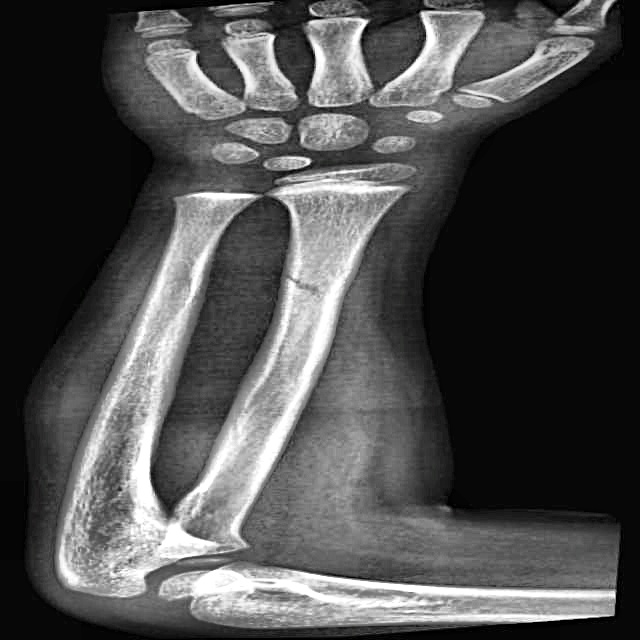Oblique Displaced: (241, 256, 382, 330)
